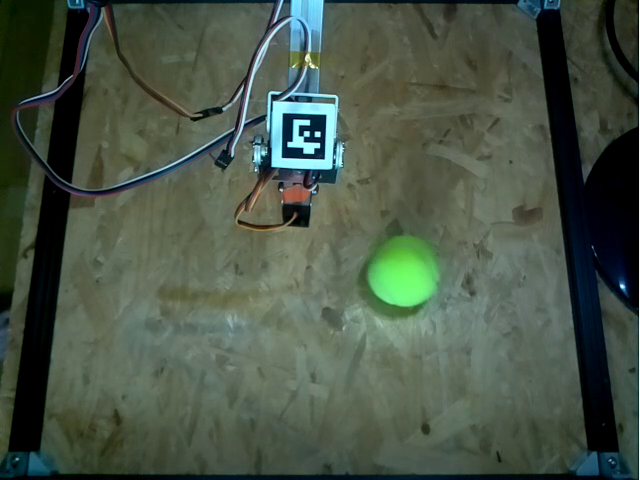tennis_ball: (367, 235, 440, 307)
